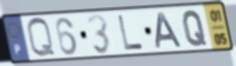3: (86, 13, 113, 56)
6: (54, 16, 79, 58)
A: (155, 11, 184, 50)
L: (116, 14, 145, 51)
Q: (25, 16, 58, 60), (181, 9, 209, 48)
